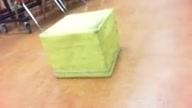cube: (39, 6, 120, 78)
